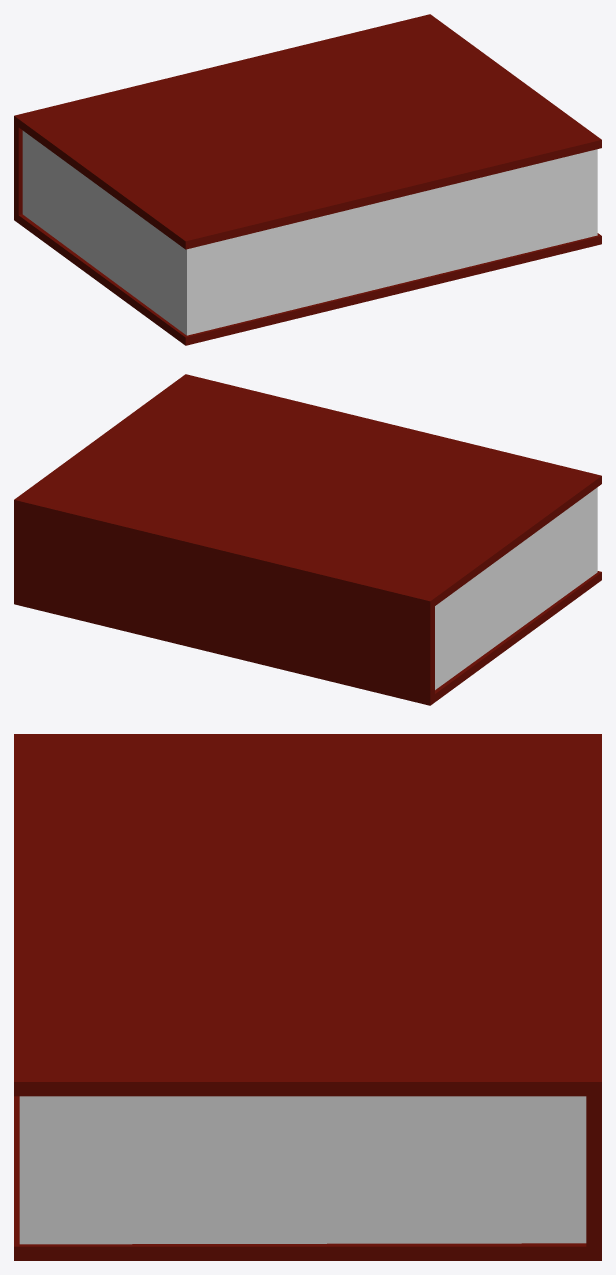
Rendered from ThrowProp_BookLargeRed.FBX.
3 views of the same model, one above another, from view 1: azimuth 30°, elevation 25°; view 2: azimuth 150°, elevation 25°; view 3: azimuth 270°, elevation 25° (orthographic). The views are drawn at different scales.
Visible parts, largest first — view 1: Book_LargeRed; view 2: Book_LargeRed; view 3: Book_LargeRed.
Part boxes in pixels (x1=…): Book_LargeRed: x1=14, y1=14, x2=601, y2=345; Book_LargeRed: x1=14, y1=374, x2=601, y2=705; Book_LargeRed: x1=14, y1=734, x2=601, y2=1260.
Bounding box in the file's own units: 21 × 5.04 × 15.
Materials: 1 (1 with a texture image).
